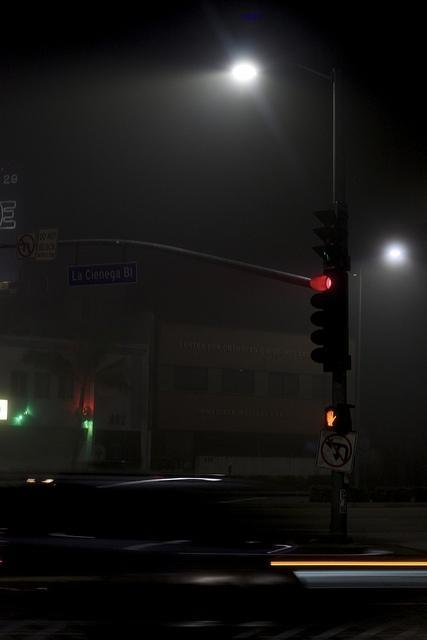car: (0, 469, 424, 626)
